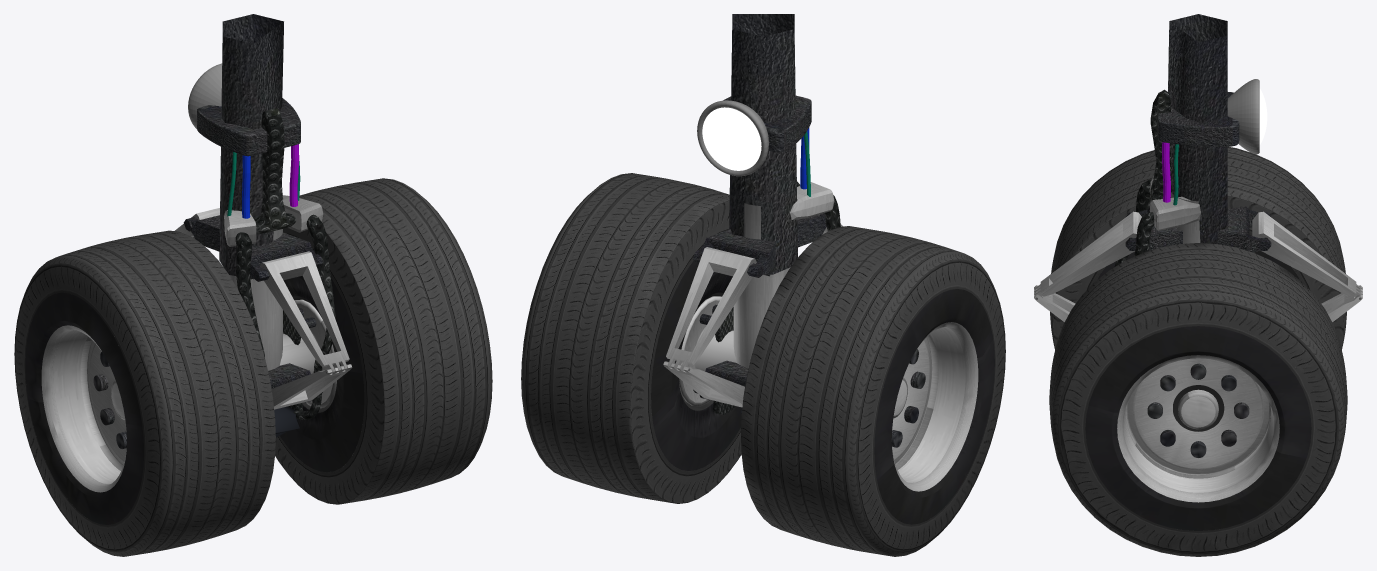
The model's file is gear.glb.
The picture shows the model from 3 angles, left to right: view 1: azimuth 30°, elevation 25°; view 2: azimuth 150°, elevation 25°; view 3: azimuth 270°, elevation 25°; orthographic projection. The views are drawn at different scales.
Parts seen in each view (by area): view 1: Rodas_0, Rodas_2, Rodas_1, Rodas_3, Eixo_0, Suporte_1, Lanterna_1; view 2: Rodas_0, Rodas_2, Rodas_1, Rodas_3, Suporte_1, Lanterna_0, Lanterna_1, Eixo_0; view 3: Rodas_0, Rodas_2, Rodas_1, Rodas_3, Suporte_1, Eixo_0, Lanterna_1, Cabos_3.
Boxes of the visible parts, <box> form: Rodas_0: <box>14,178,492,556</box>; Rodas_2: <box>41,195,352,492</box>; Rodas_1: <box>25,275,364,524</box>; Rodas_3: <box>93,14,299,449</box>; Eixo_0: <box>235,108,335,419</box>; Suporte_1: <box>183,98,322,402</box>; Lanterna_1: <box>188,63,222,128</box>; Rodas_0: <box>521,173,1005,556</box>; Rodas_2: <box>663,182,978,491</box>; Rodas_1: <box>651,261,994,524</box>; Rodas_3: <box>729,14,925,447</box>; Suporte_1: <box>693,95,826,400</box>; Lanterna_0: <box>702,107,761,170</box>; Lanterna_1: <box>697,100,768,176</box>; Eixo_0: <box>713,181,840,414</box>; Rodas_0: <box>1049,146,1347,556</box>; Rodas_2: <box>1034,176,1362,502</box>; Rodas_1: <box>1085,234,1311,530</box>; Rodas_3: <box>1147,14,1249,457</box>; Suporte_1: <box>1125,92,1271,252</box>; Eixo_0: <box>1114,89,1170,266</box>; Lanterna_1: <box>1227,79,1259,154</box>; Cabos_3: <box>1162,142,1170,202</box>.
Bounding box in the file's own units: 2.59 × 3.46 × 2.25.
Materials: 11 (6 with a texture image).
